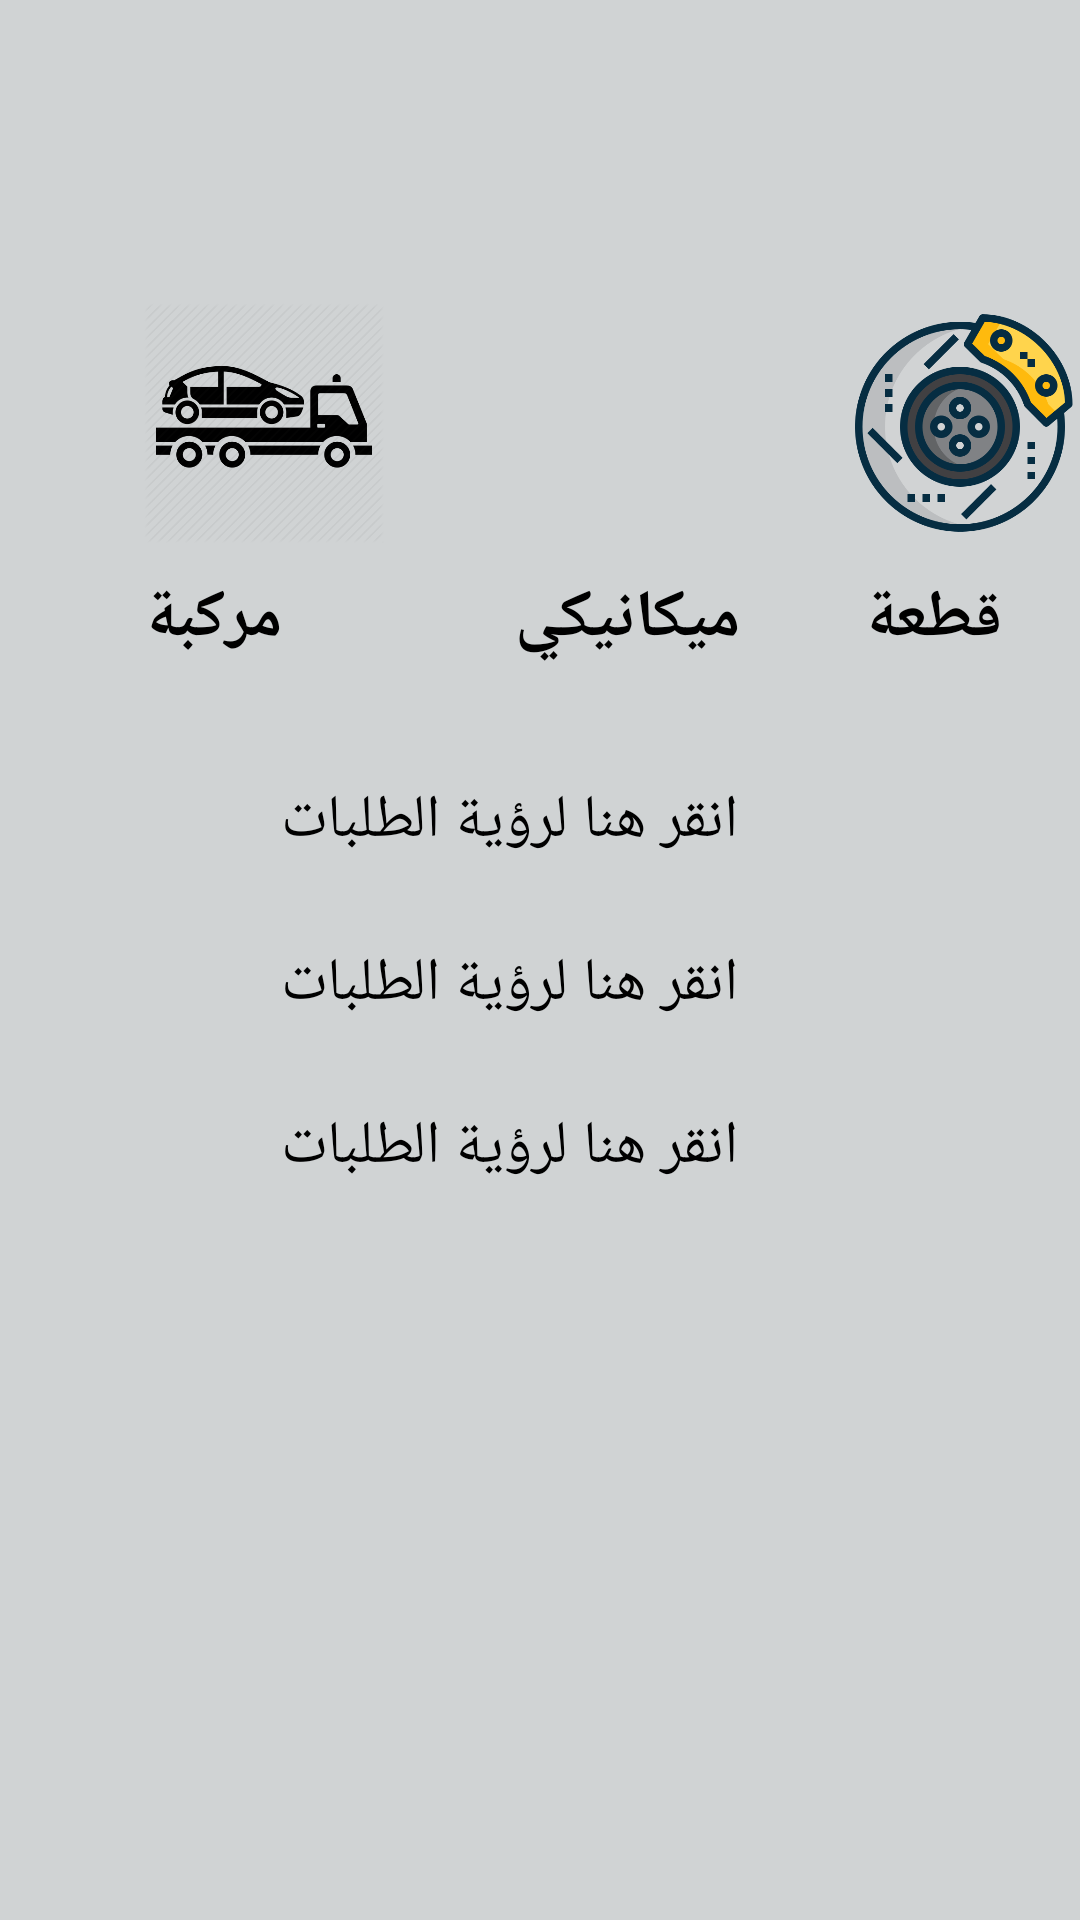

Icon bounding boxes for this 1080x1920 phone screenshot, format (x1,y1,x2,y2):
brake: (855,314,1073,532)
